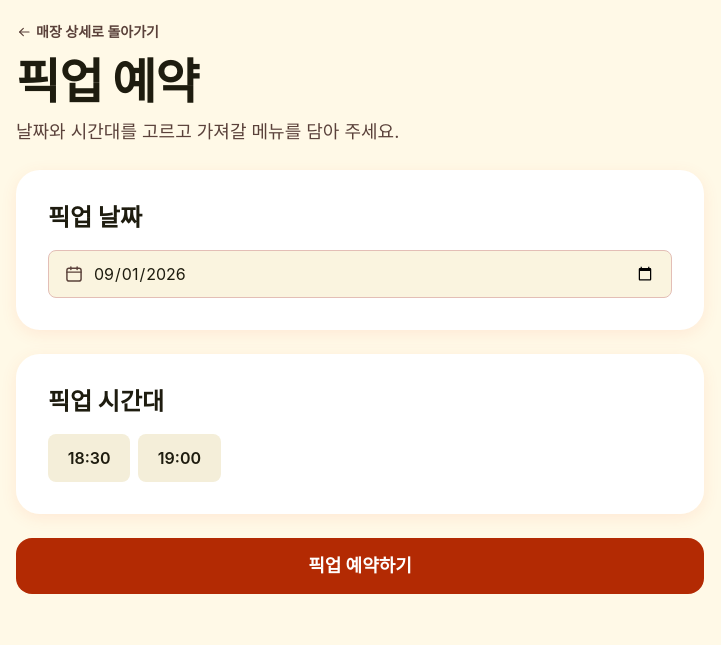
Test case: 픽업 예약 작성 › 시간대를 바꾸면 이전 구간의 메뉴 선택을 버린다
Click the button "18:30": (89, 458) [48,434,130,482]
(page scrolled)
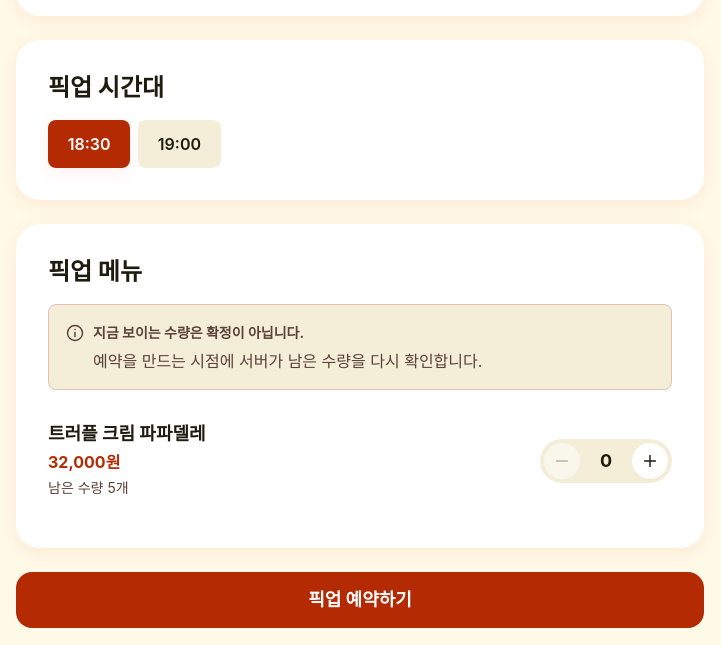
Click the button named "트러플 크림 파파델레 수량 늘리기": (650, 461) [632,443,668,479]
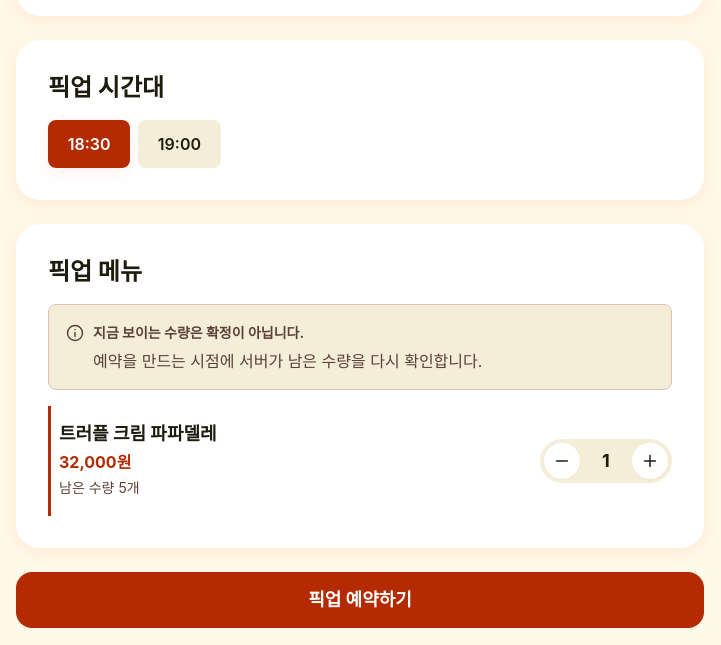
Expected: the text named "트러플 크림 파파델레 선택 수량" reads "1", [602,450,610,471]
Click the button "19:00": (179, 144) [138,120,221,168]
(page scrolled)
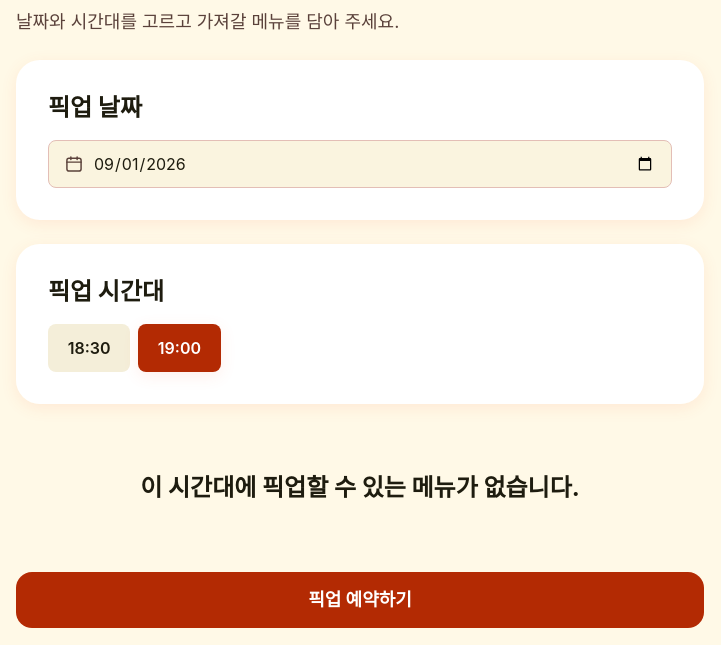
Click the button "18:30": (89, 348) [48,324,130,372]
(page scrolled)
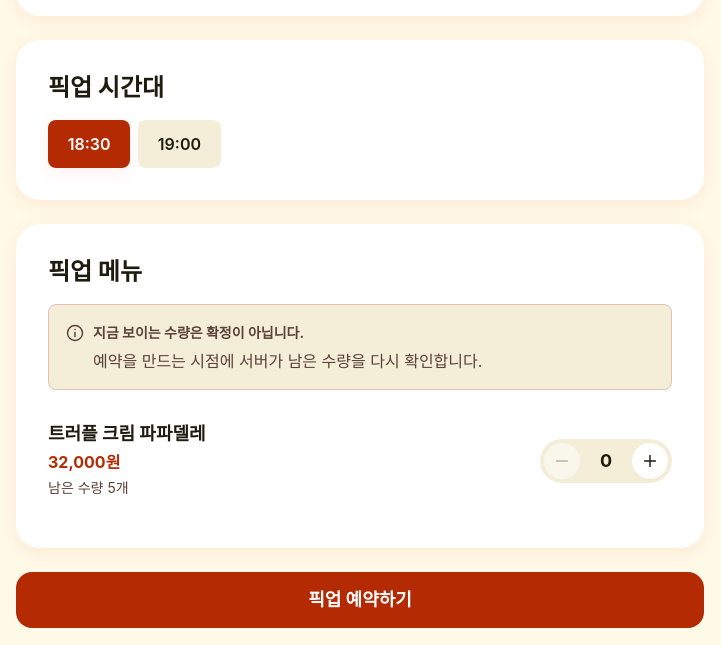
Expected: the text named "트러플 크림 파파델레 선택 수량" reads "0", [600,450,612,471]
